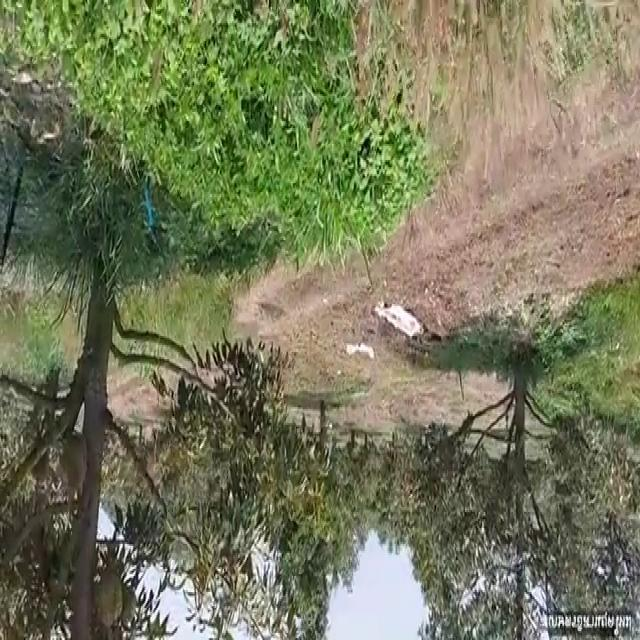durian: (53, 424, 89, 498), (91, 565, 124, 631)
